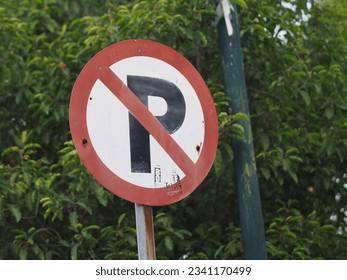No Parking: (70, 31, 212, 202)
